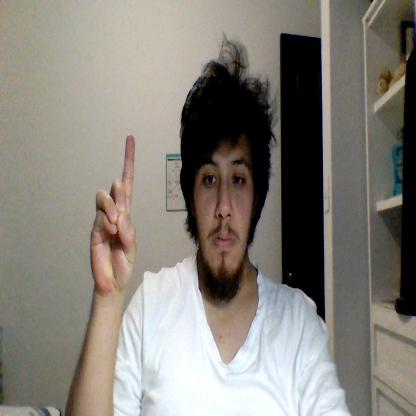D: (90, 134, 137, 293)
